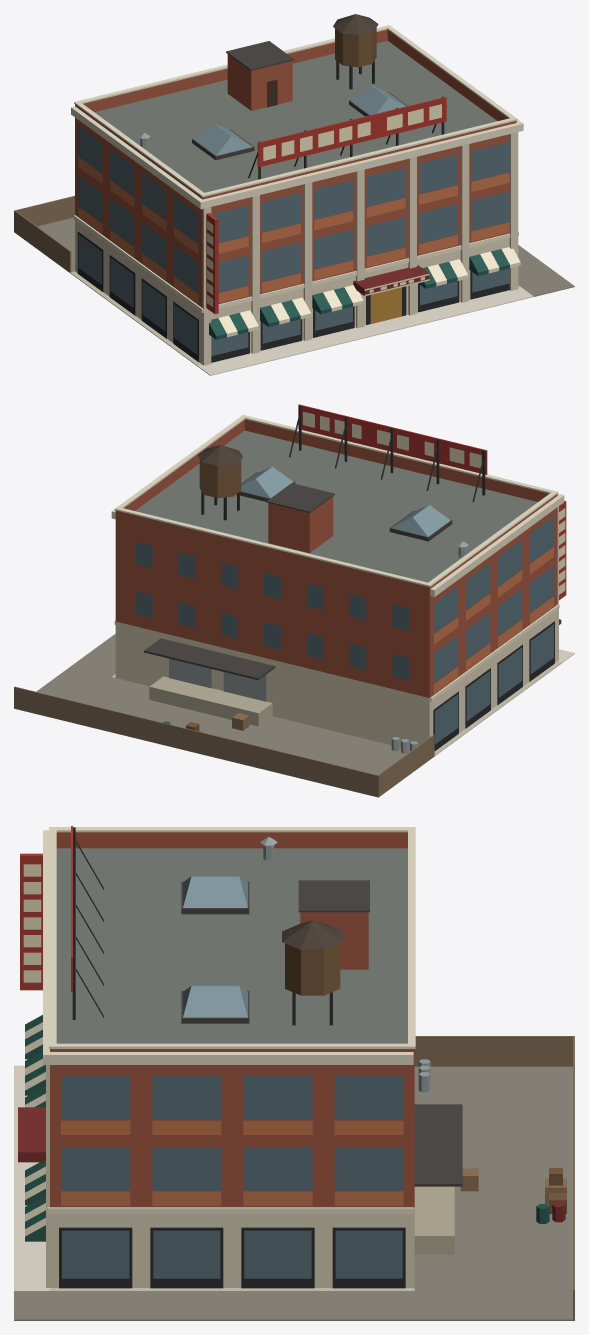
Rendered from store.glb.
The picture shows the model from 3 angles, top to bottom: view 1: azimuth 30°, elevation 25°; view 2: azimuth 150°, elevation 25°; view 3: azimuth 270°, elevation 25°; orthographic projection. The views are drawn at different scales.
Parts seen in each view (by area): view 1: store; view 2: store; view 3: store.
Part boxes in pixels (x1=…): store: x1=14, y1=14, x2=574, y2=375; store: x1=14, y1=404, x2=574, y2=797; store: x1=14, y1=826, x2=574, y2=1320.
Size of the model in its own units: 30 by 17.65 by 28.
